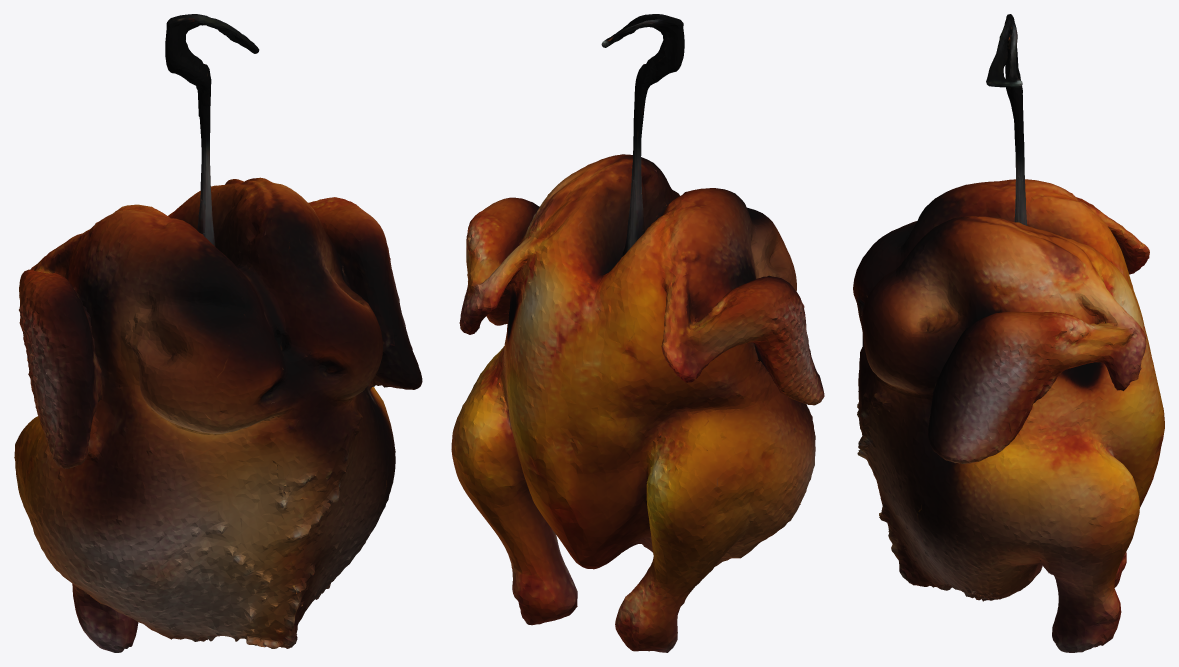
Rendered from roastedchicken.fbx.
The picture shows the model from 3 angles, left to right: view 1: azimuth 30°, elevation 25°; view 2: azimuth 150°, elevation 25°; view 3: azimuth 270°, elevation 25°; orthographic projection. The views are drawn at different scales.
Visible parts, largest first — view 1: world; view 2: world; view 3: world.
Boxes of the visible parts, <box> form: world: <box>14,14,422,652</box>; world: <box>451,14,824,652</box>; world: <box>853,14,1164,652</box>.
Size of the model in its own units: 55.73 by 99.03 by 47.43.
